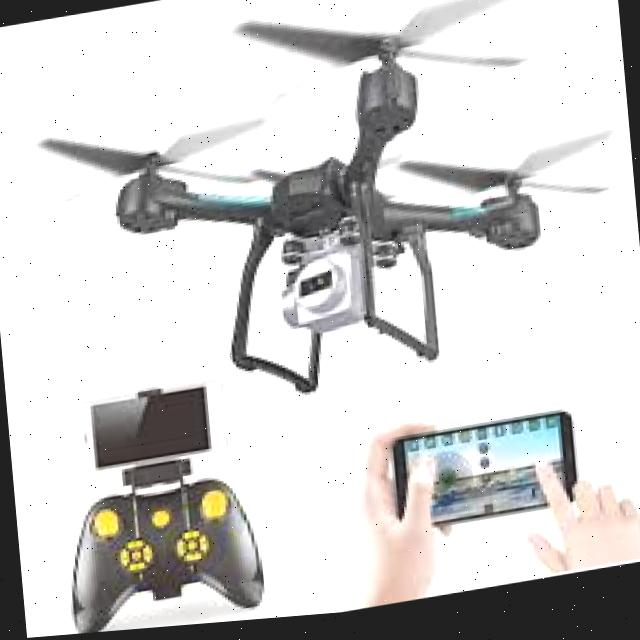drone: (13, 0, 590, 433)
